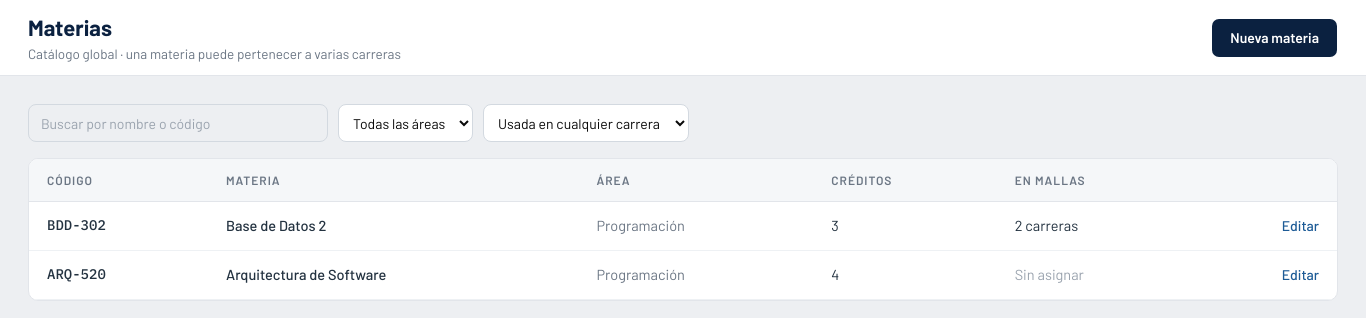
Test: CoursesTable › the assignment filter isolates unassigned courses
Expected: the text "Base de Datos 2" is shown, [208, 202, 578, 250]
Step 1. Select "Sin asignar a ninguna malla" in the dropdown named "uso" → coordinates (586, 123), box [483, 104, 689, 142]
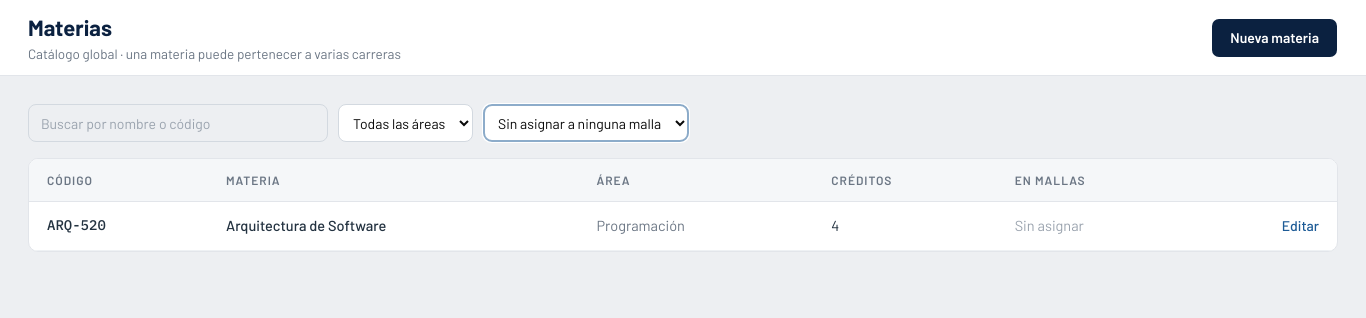
Expected: the text "Arquitectura de Software" is shown, [208, 202, 578, 250]
Expected: the text "Base de Datos 2" is gone
